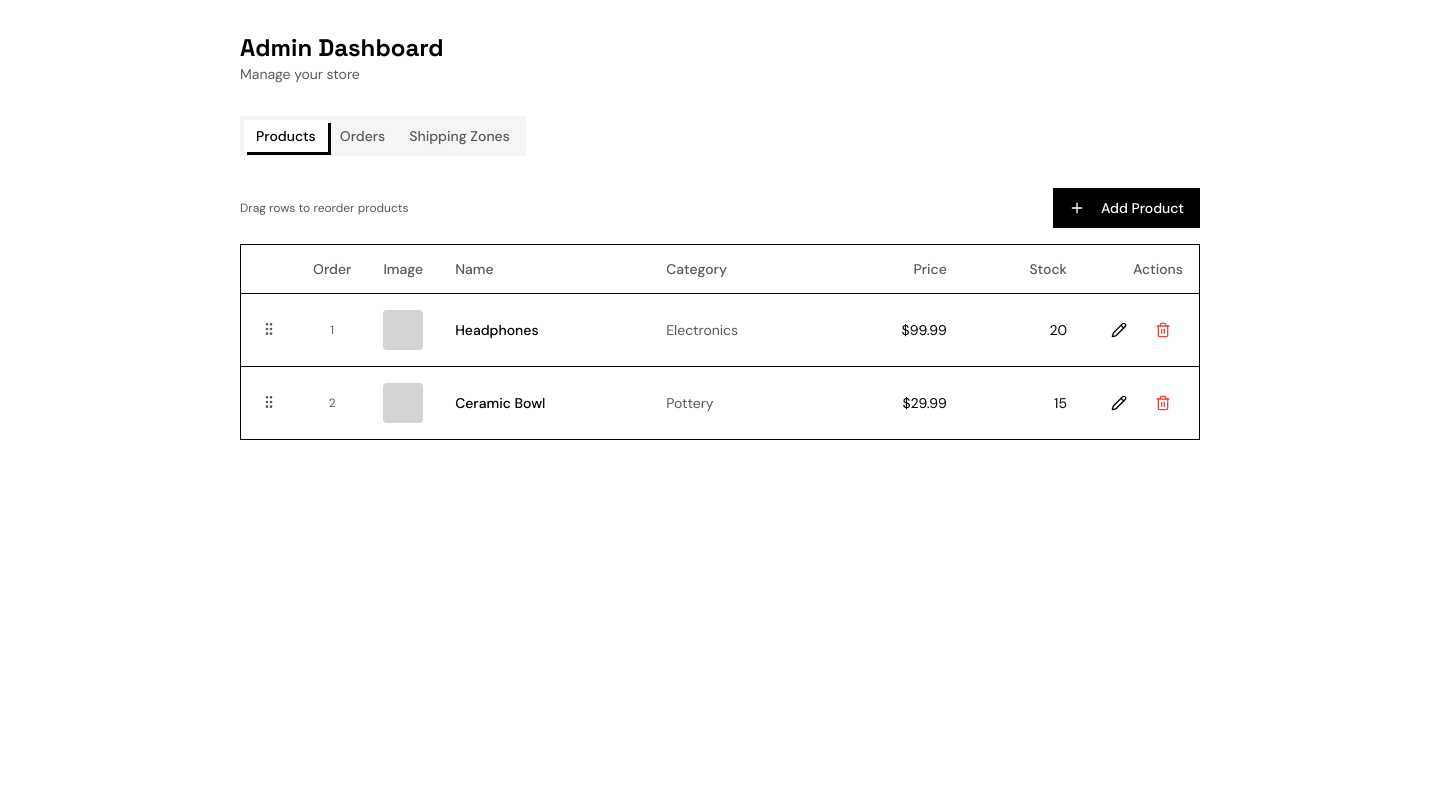
Test: AdminPage › opens delete confirmation when clicking delete button
Click the 4th button: point(1163, 330) 1143,310 -> 1183,350
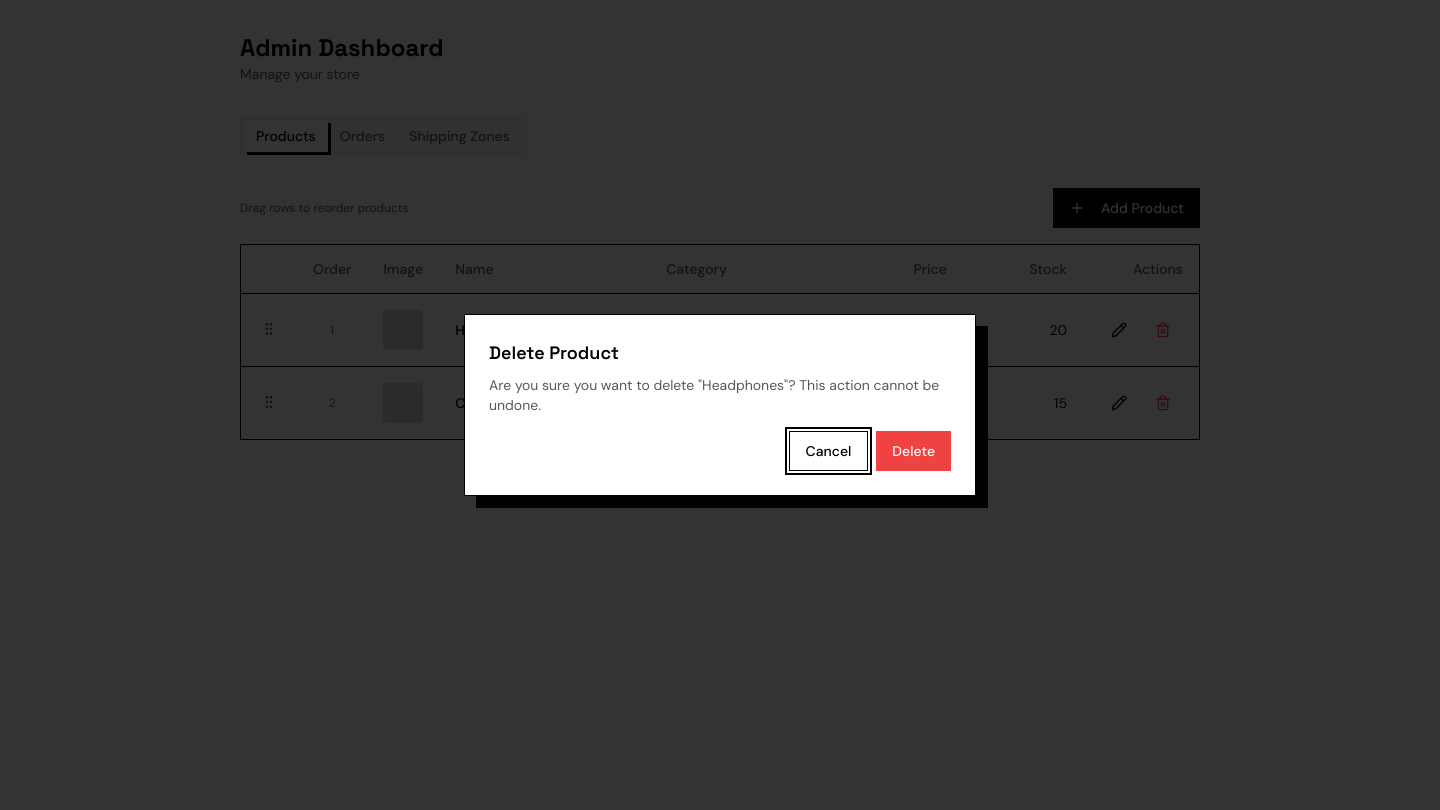
Result: the heading "Delete Product" is shown at 489,341 -> 619,364
Result: the text "This action cannot be undone" is shown at 489,376 -> 939,414
